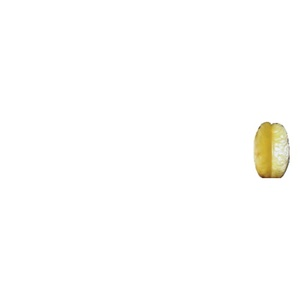carambola: (254, 122, 290, 179)
